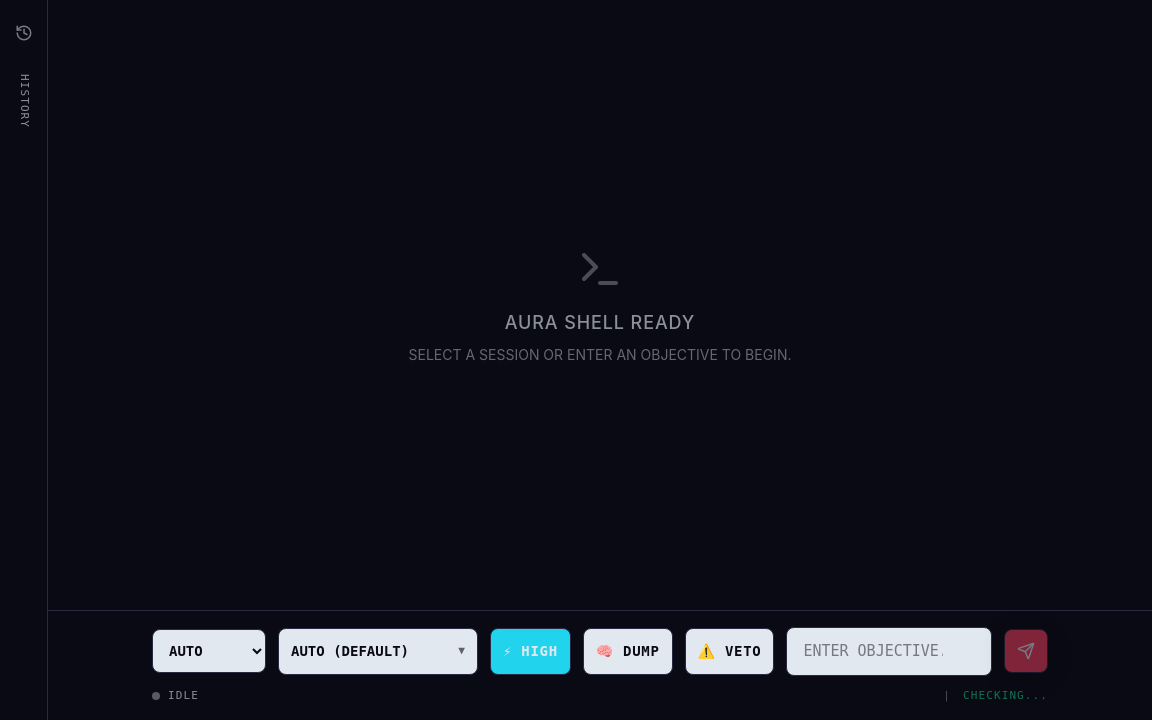
it: CoreTerminal Resiliency (SSE Streaming) › error event renders a user-visible failure state
Type "Break it" into the field with placeholder "ENTER OBJECTIVE..." at (889, 651), box x1=786 y1=627 x2=992 y2=676
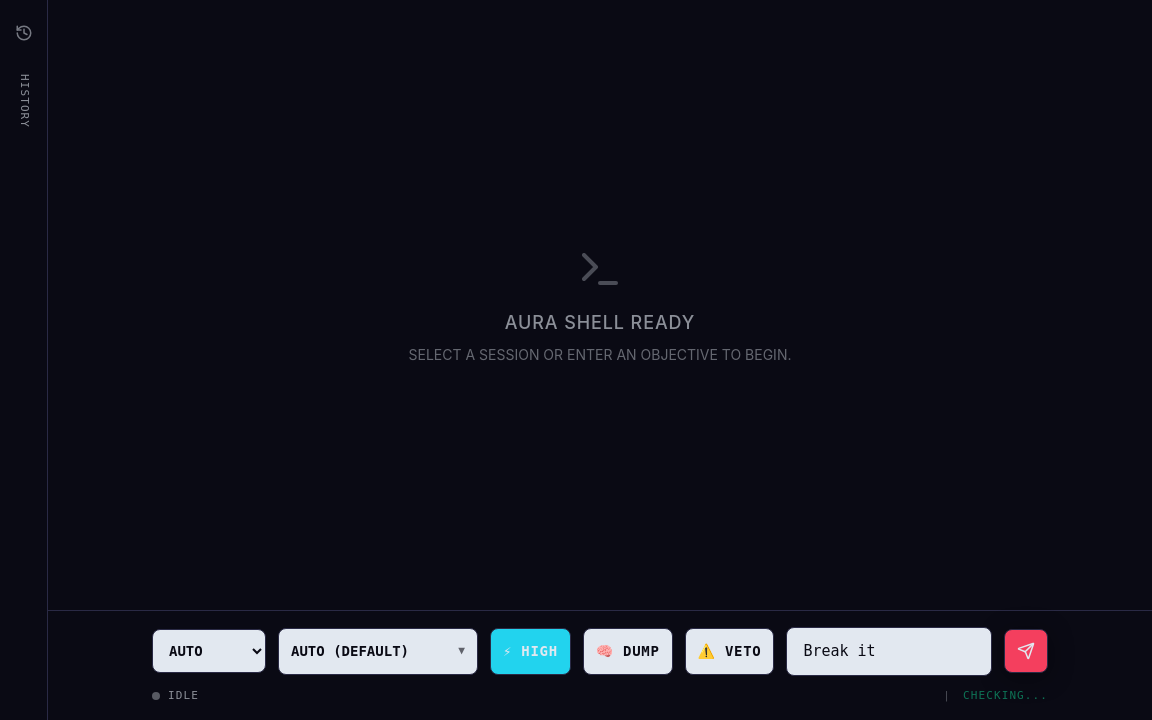
Press Enter in the field with placeholder "ENTER OBJECTIVE...", box x1=786 y1=627 x2=992 y2=676
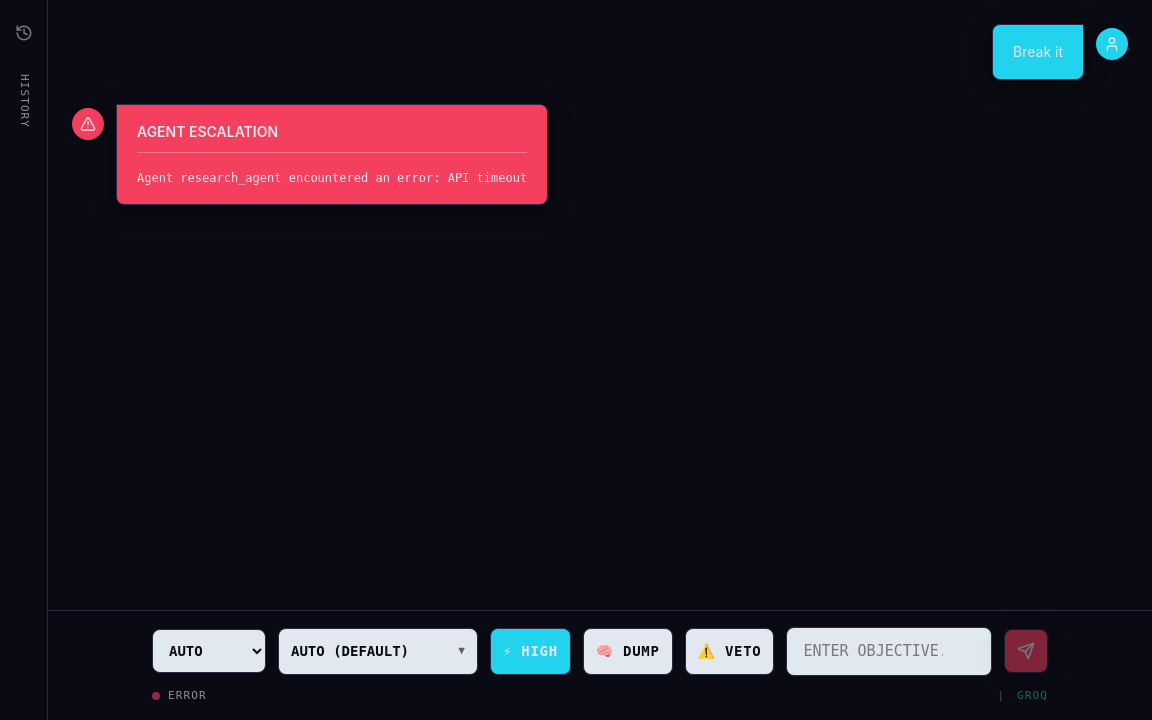
Expected: the text "Agent research_agent encountered an error: API timeout" is shown, x1=137 y1=169 x2=527 y2=188
Expected: the text "ERROR" is shown, x1=152 y1=688 x2=207 y2=704
